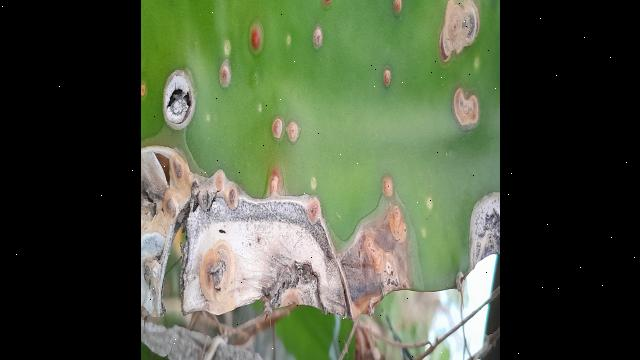stemcanker: (449, 83, 483, 132), (244, 19, 266, 57), (374, 170, 400, 200), (267, 164, 286, 196), (217, 59, 235, 90), (310, 20, 325, 53), (269, 114, 286, 143), (285, 119, 303, 145), (379, 64, 397, 88)
